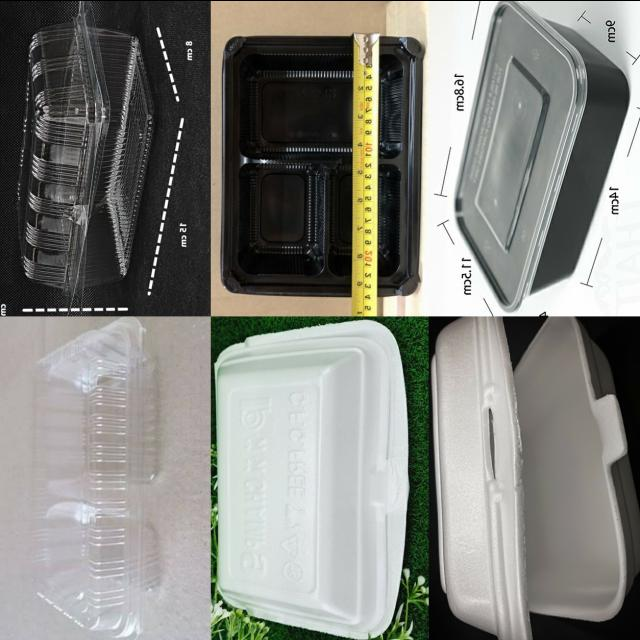plastik: (432, 316, 640, 640), (215, 319, 408, 637), (221, 33, 423, 304), (455, 0, 627, 311), (18, 0, 153, 304), (32, 317, 159, 637)
